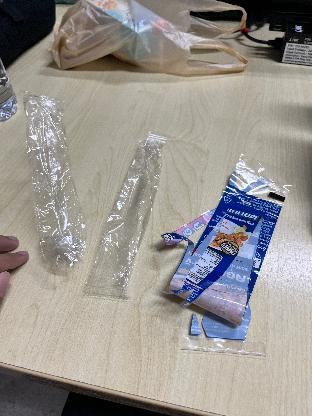Others: (171, 154, 294, 370), (87, 132, 171, 302), (26, 90, 92, 280)
